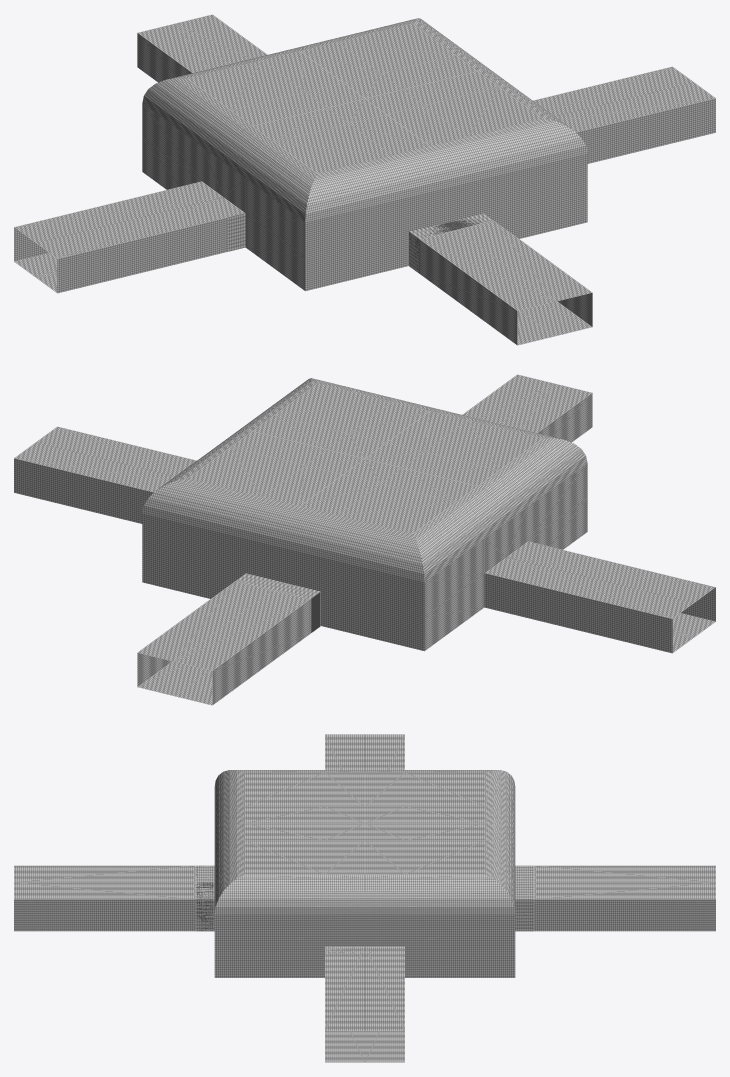
Rendered from Stage0Room.fbx.
3 renders of one model, top to bottom at view 1: azimuth 30°, elevation 25°; view 2: azimuth 150°, elevation 25°; view 3: azimuth 270°, elevation 25°, orthographic. The views are drawn at different scales.
Parts seen in each view (by area): view 1: Room, DoorFor1, DoorFor3; view 2: Room, DoorBack; view 3: Room, DoorBack, DoorFor1.
Part boxes in pixels (x1,y1,x2,y2): Room: (14,14,715,345); DoorFor1: (409,213,493,272); DoorFor3: (227,213,245,251); Room: (14,374,715,705); DoorBack: (236,573,320,598); Room: (14,734,715,1062); DoorBack: (515,865,534,931); DoorFor1: (195,865,214,931).
Size of what is drawn, in the model's own units: 7000 by 1000 by 7000.
